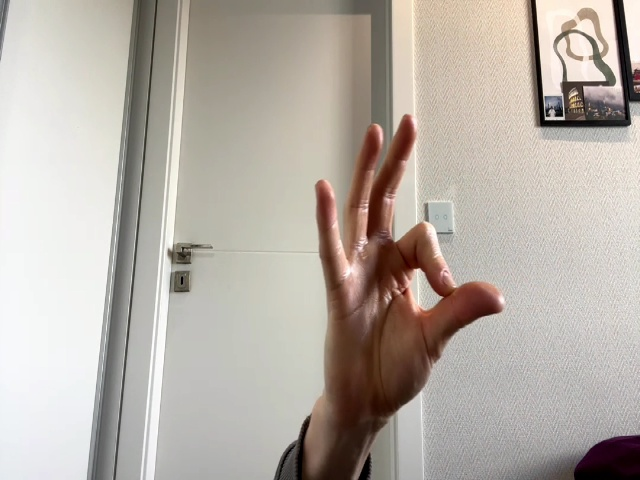S: (315, 116, 505, 428)
